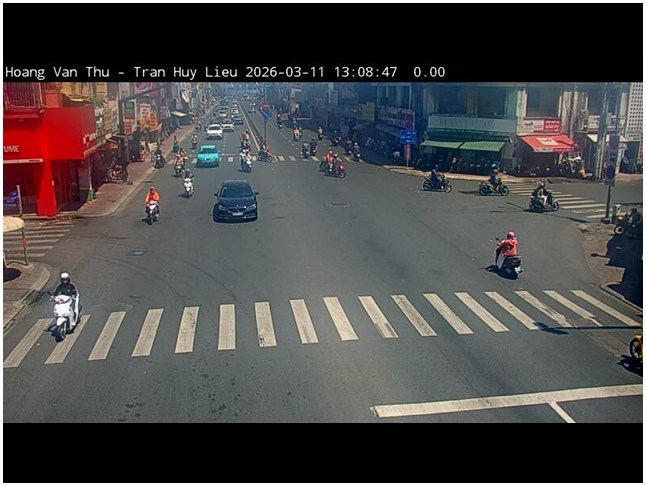car: (211, 179, 259, 222), (195, 145, 220, 168)
motorbike: (525, 186, 559, 213), (421, 169, 453, 193), (478, 173, 509, 196)
